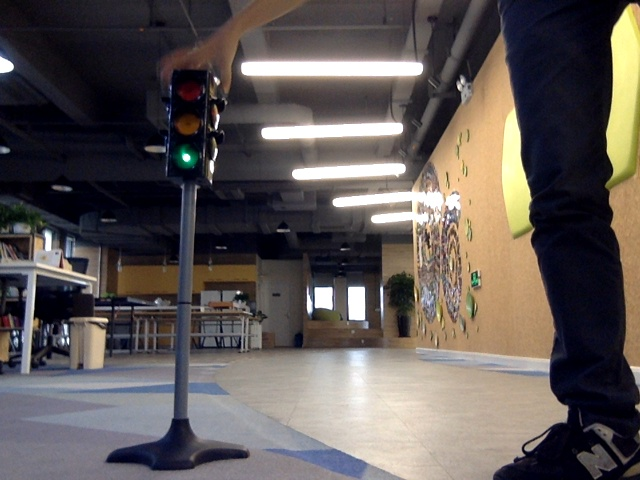green: (168, 72, 206, 172)
